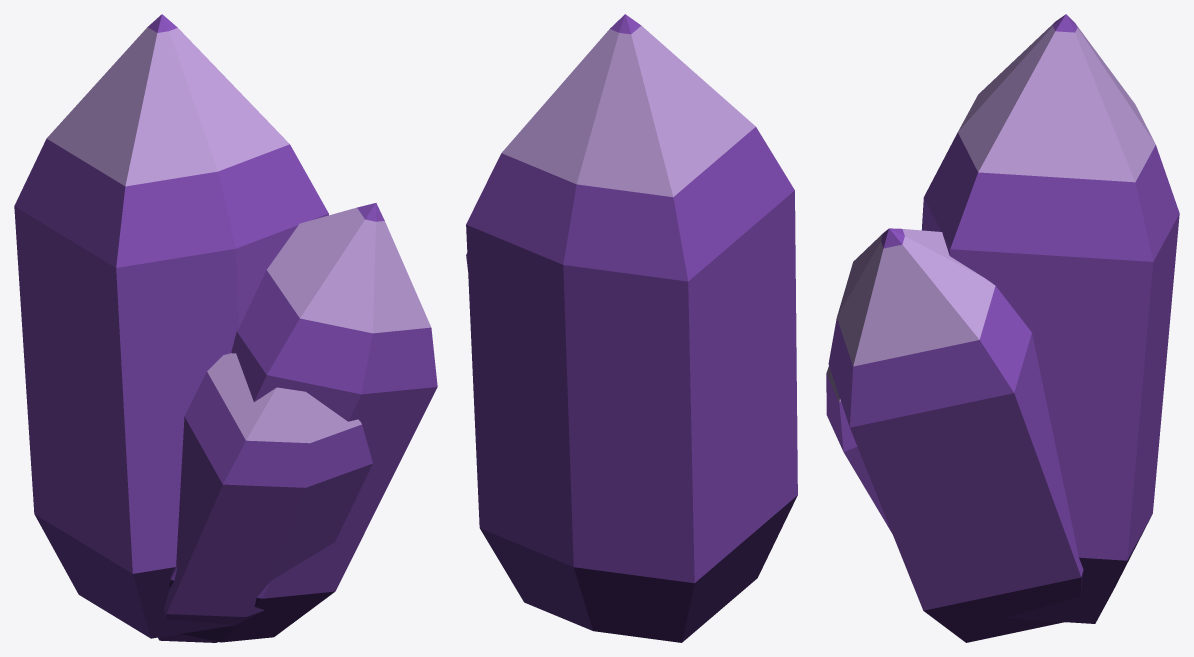
Rendered from amethyst.gltf.
3 views of the same model, side by side, from view 1: azimuth 30°, elevation 25°; view 2: azimuth 150°, elevation 25°; view 3: azimuth 270°, elevation 25° (orthographic). The views are drawn at different scales.
Visible parts, largest first — view 1: amethyst; view 2: amethyst; view 3: amethyst.
Boxes of the visible parts, x1,y1,x2,y2 form: amethyst: [14, 14, 437, 642]; amethyst: [466, 14, 797, 642]; amethyst: [826, 14, 1179, 642].
Size of the model in its own units: 0.1178 by 0.2396 by 0.1281.
